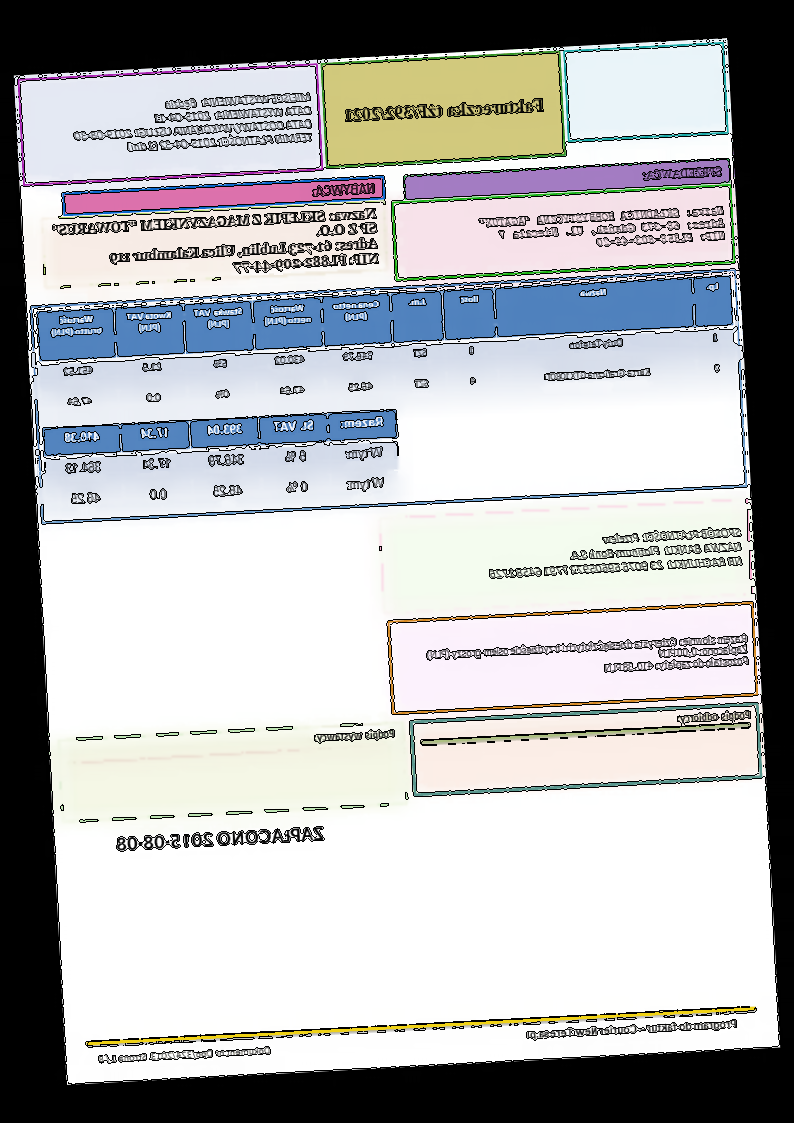Table: (36, 273, 738, 425), (42, 408, 402, 519)
TextBox: (50, 206, 382, 283), (425, 631, 750, 684), (71, 91, 315, 157), (486, 524, 745, 581), (478, 202, 727, 255), (343, 95, 546, 124), (116, 824, 325, 852), (525, 1016, 740, 1043), (96, 1043, 273, 1067), (313, 726, 397, 746), (640, 164, 725, 183), (675, 707, 753, 726), (310, 180, 377, 199)
